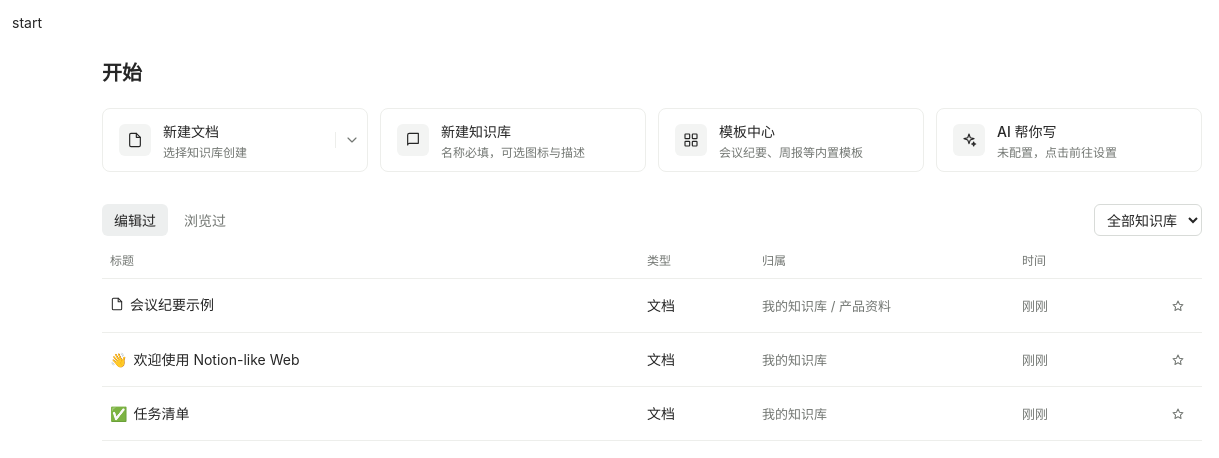
Test: StartPage › 点击归属路径定位到知识库
Click the button "我的知识库 / 产品资料": click(826, 305) x1=762 y1=296 x2=891 y2=314
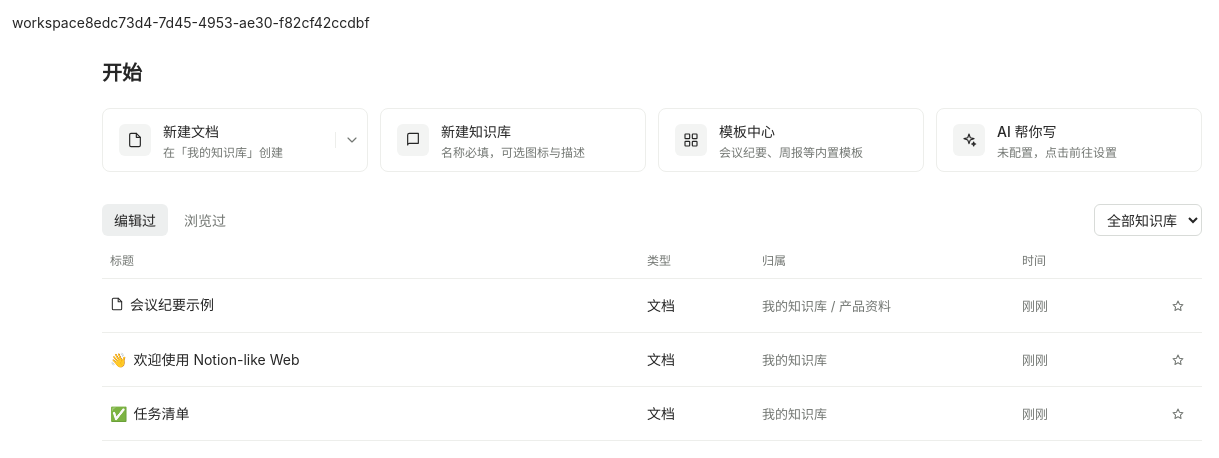
Expected: the element with test id "page" does not show ""
Now the text with test id "view" reads "workspace", box x1=12 y1=14 x2=85 y2=31
